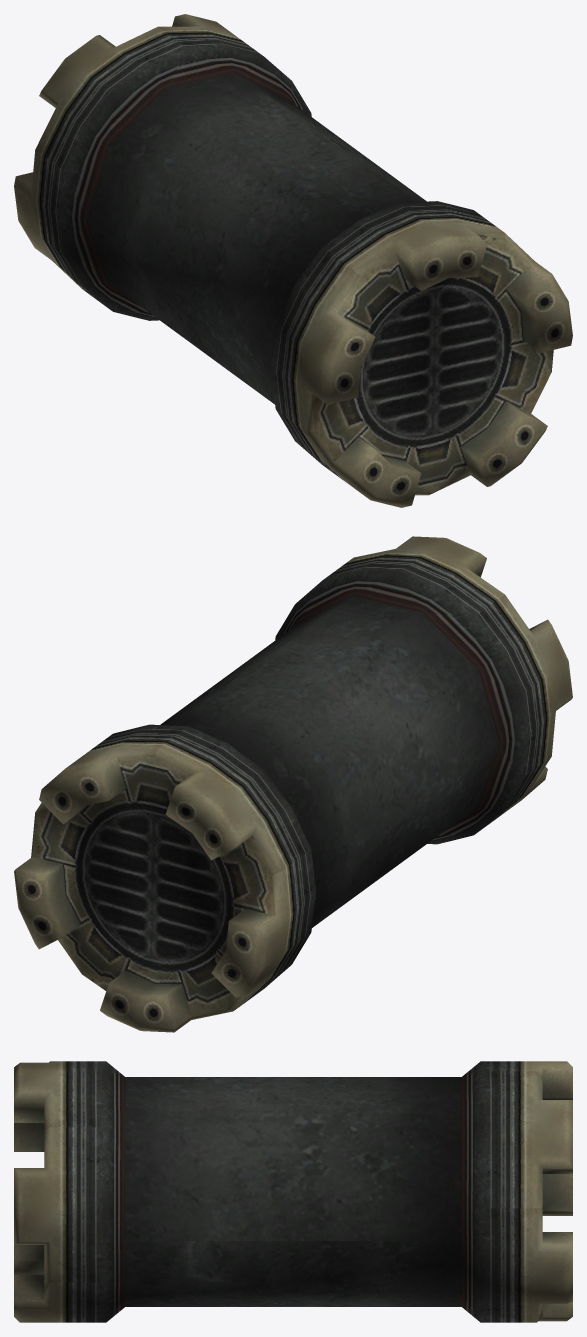
Rendered from tech_short.dae.
The picture shows the model from 3 angles, top to bottom: view 1: azimuth 30°, elevation 25°; view 2: azimuth 150°, elevation 25°; view 3: azimuth 270°, elevation 25°; orthographic projection. The views are drawn at different scales.
Parts seen in each view (by area): view 1: polySurface783; view 2: polySurface783; view 3: polySurface783.
Boxes of the visible parts, bbox=[...] form: polySurface783: bbox=[14, 14, 572, 507]; polySurface783: bbox=[14, 536, 572, 1032]; polySurface783: bbox=[14, 1061, 572, 1322].
Bounding box in the file's own units: 0.4984 × 0.5035 × 1.06.
1 material, 1 textured.
